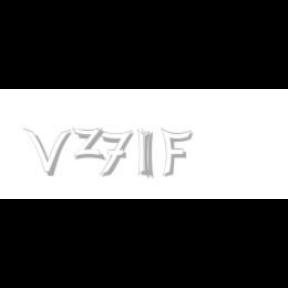7: (97, 128, 134, 178)
F: (160, 128, 192, 178)
I: (138, 128, 150, 180)
V: (24, 128, 72, 176)
l: (142, 128, 158, 180)
z: (72, 128, 108, 160)
